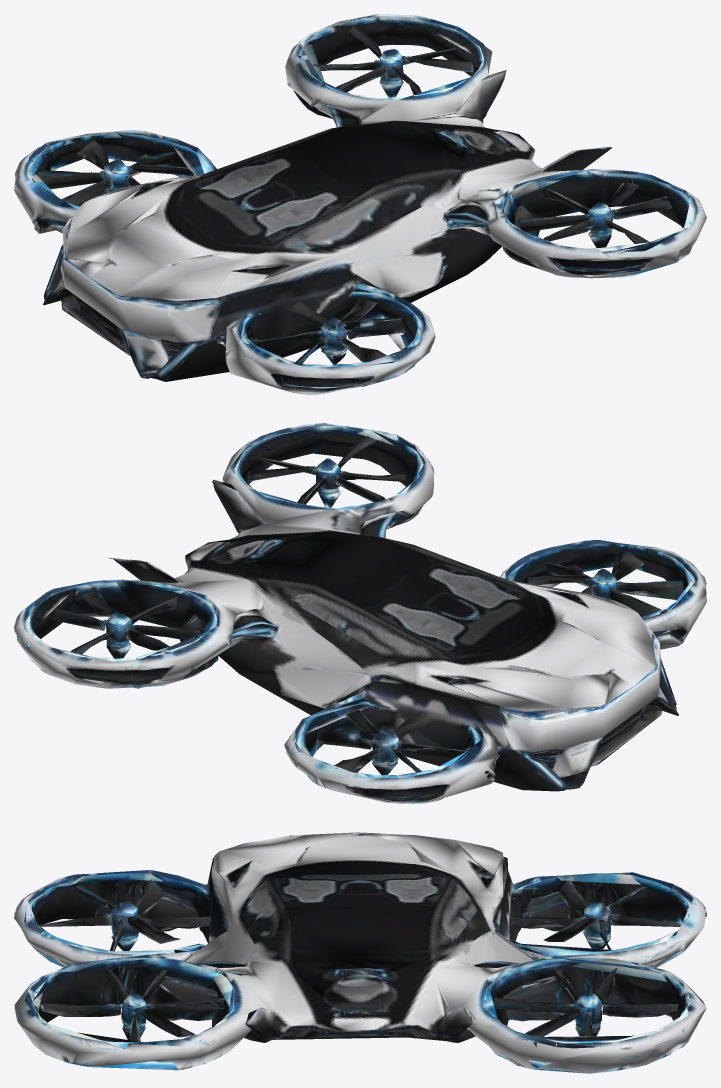
Rendered from skyblade.glb.
3 views of the same model, one above another, from view 1: azimuth 30°, elevation 25°; view 2: azimuth 150°, elevation 25°; view 3: azimuth 270°, elevation 25° (orthographic). The views are drawn at different scales.
Size of the model in its own units: 0.8603 by 0.2006 by 0.9521.
1 material, 1 textured.
